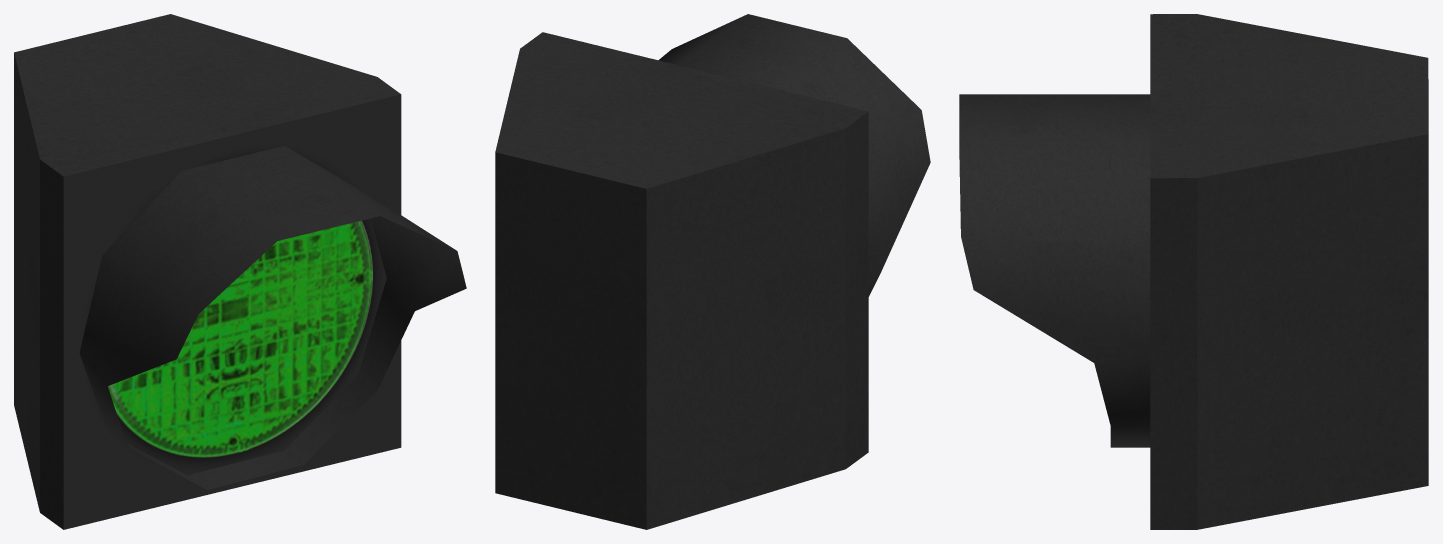
Rendered from Traffic light_Green_.FBX.
The picture shows the model from 3 angles, left to right: view 1: azimuth 30°, elevation 25°; view 2: azimuth 150°, elevation 25°; view 3: azimuth 270°, elevation 25°; orthographic projection. The views are drawn at different scales.
Visible parts, largest first — view 1: Traffic light_Green_; view 2: Traffic light_Green_; view 3: Traffic light_Green_.
Boxes of the visible parts, x1,y1,x2,y2 form: Traffic light_Green_: [14, 14, 466, 529]; Traffic light_Green_: [495, 14, 930, 529]; Traffic light_Green_: [959, 14, 1428, 529].
Size of the model in its own units: 0.2507 by 0.2507 by 0.3032.
